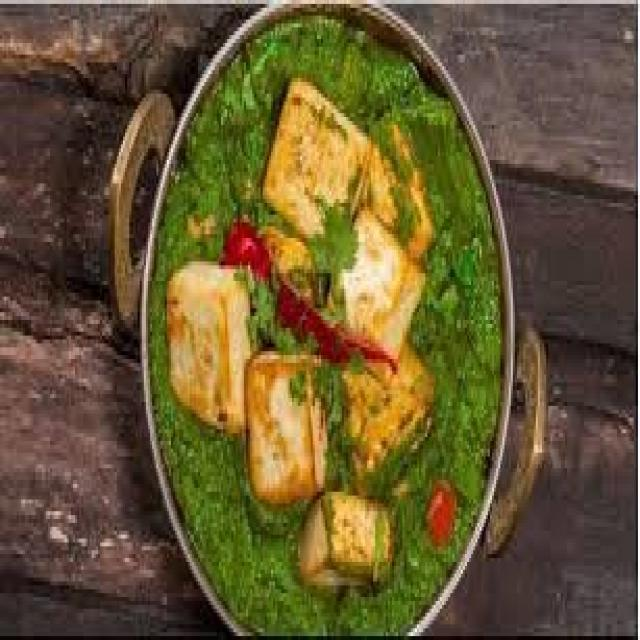Palak Paneer: (146, 1, 510, 640)
